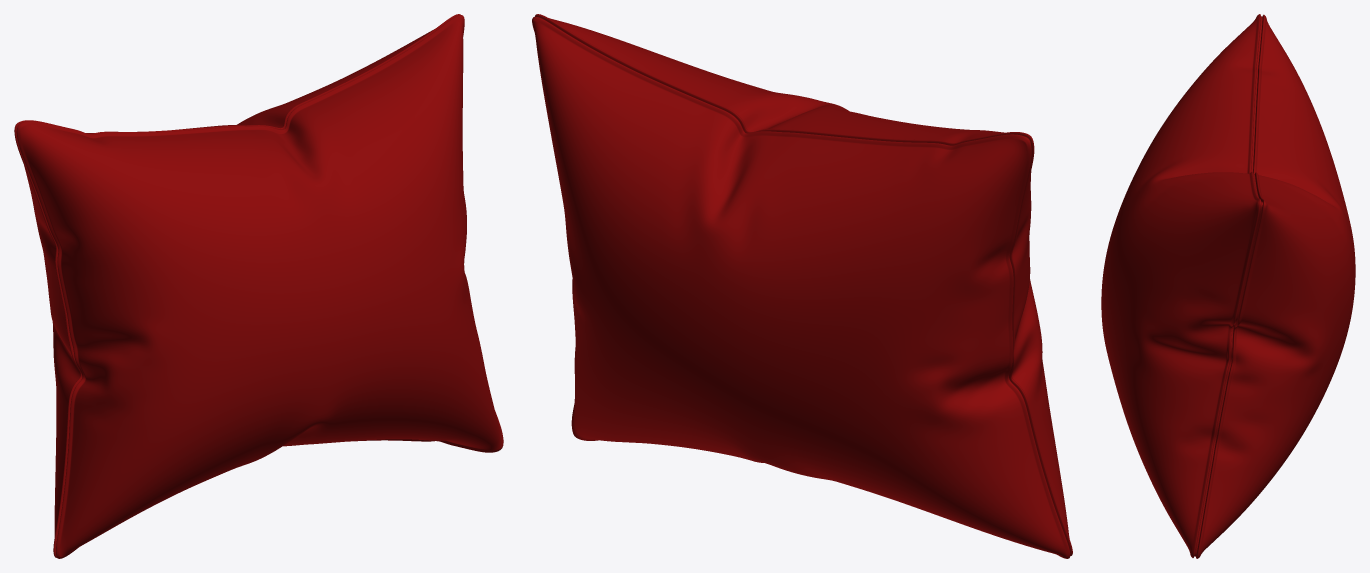
File: pillow.obj
3 renders of one model, left to right at view 1: azimuth 30°, elevation 25°; view 2: azimuth 150°, elevation 25°; view 3: azimuth 270°, elevation 25°, orthographic. The views are drawn at different scales.
Visible parts, largest first — view 1: Box004; view 2: Box004; view 3: Box004.
Boxes of the visible parts, x1,y1,x2,y2 form: Box004: (14, 14, 503, 558); Box004: (532, 14, 1072, 558); Box004: (1101, 14, 1355, 558).
Bounding box in the file's own units: 19.07 × 16.58 × 10.66.
